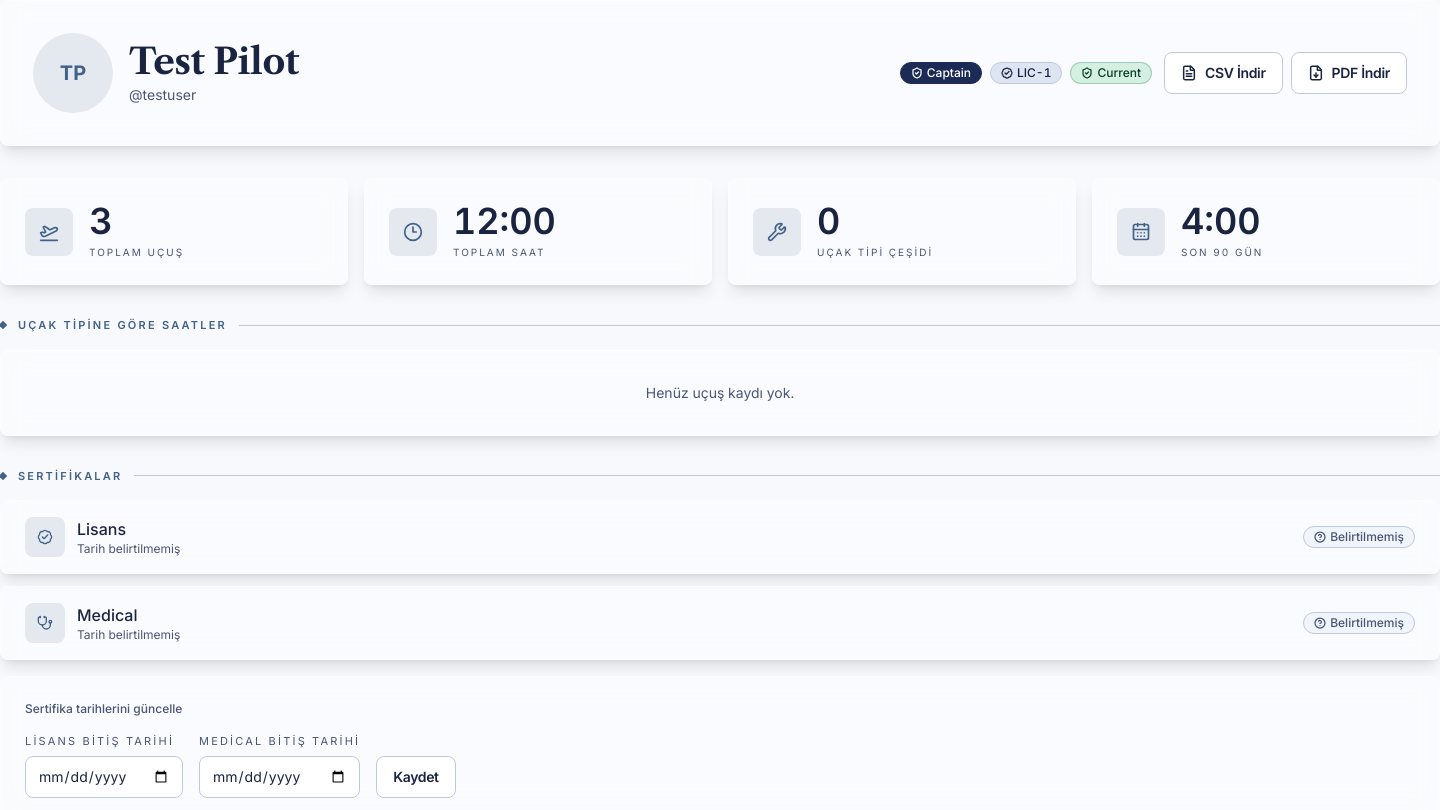
Scenario: PilotProfilePage › surfaces an error when the logbook export fails
expect the heading "Test Pilot" is shown: met, box [129,41,299,81]
Click the button "CSV İndir" at (1223,73), box [1164,52,1283,94]
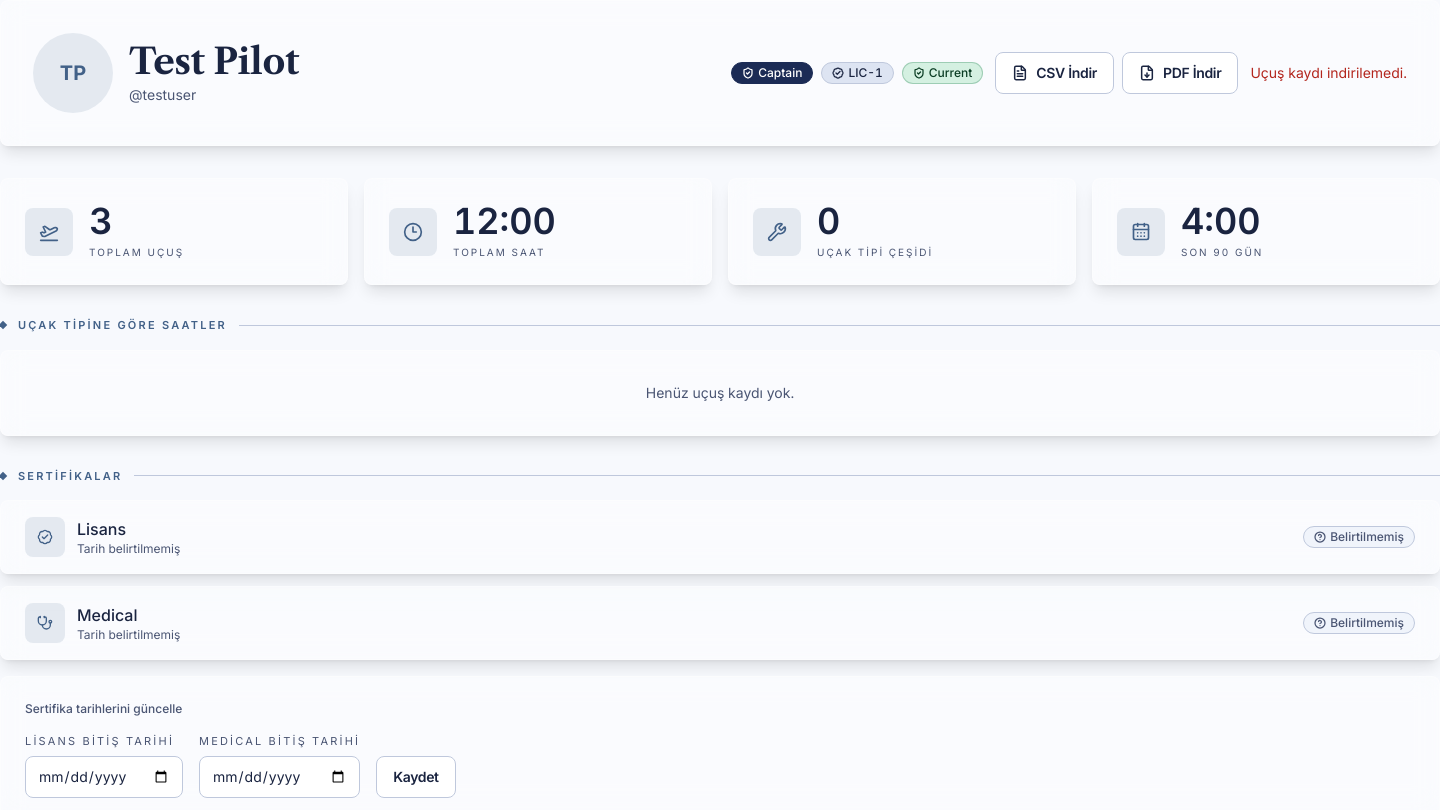
expect the message reads "Uçuş kaydı indirilemedi.": met, box [1250,64,1407,81]
